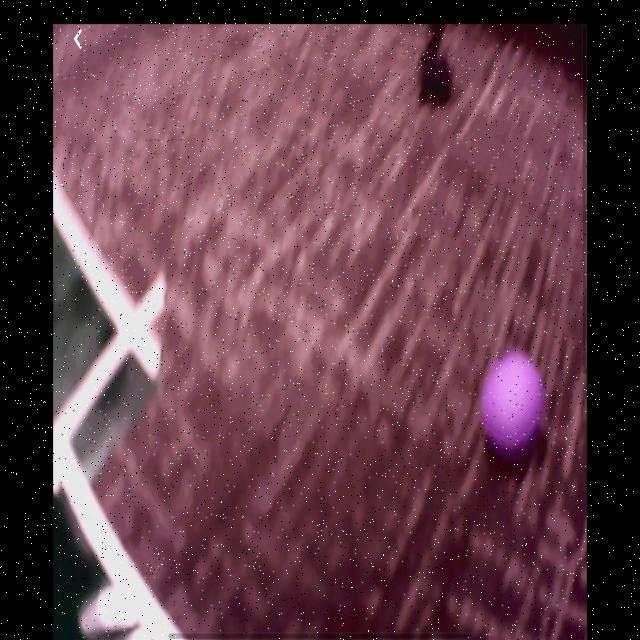ball: (480, 349, 546, 457)
